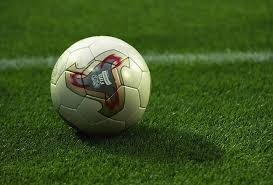football ball: (49, 34, 151, 139)
